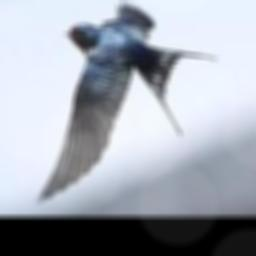Swallow: (34, 1, 216, 204)
